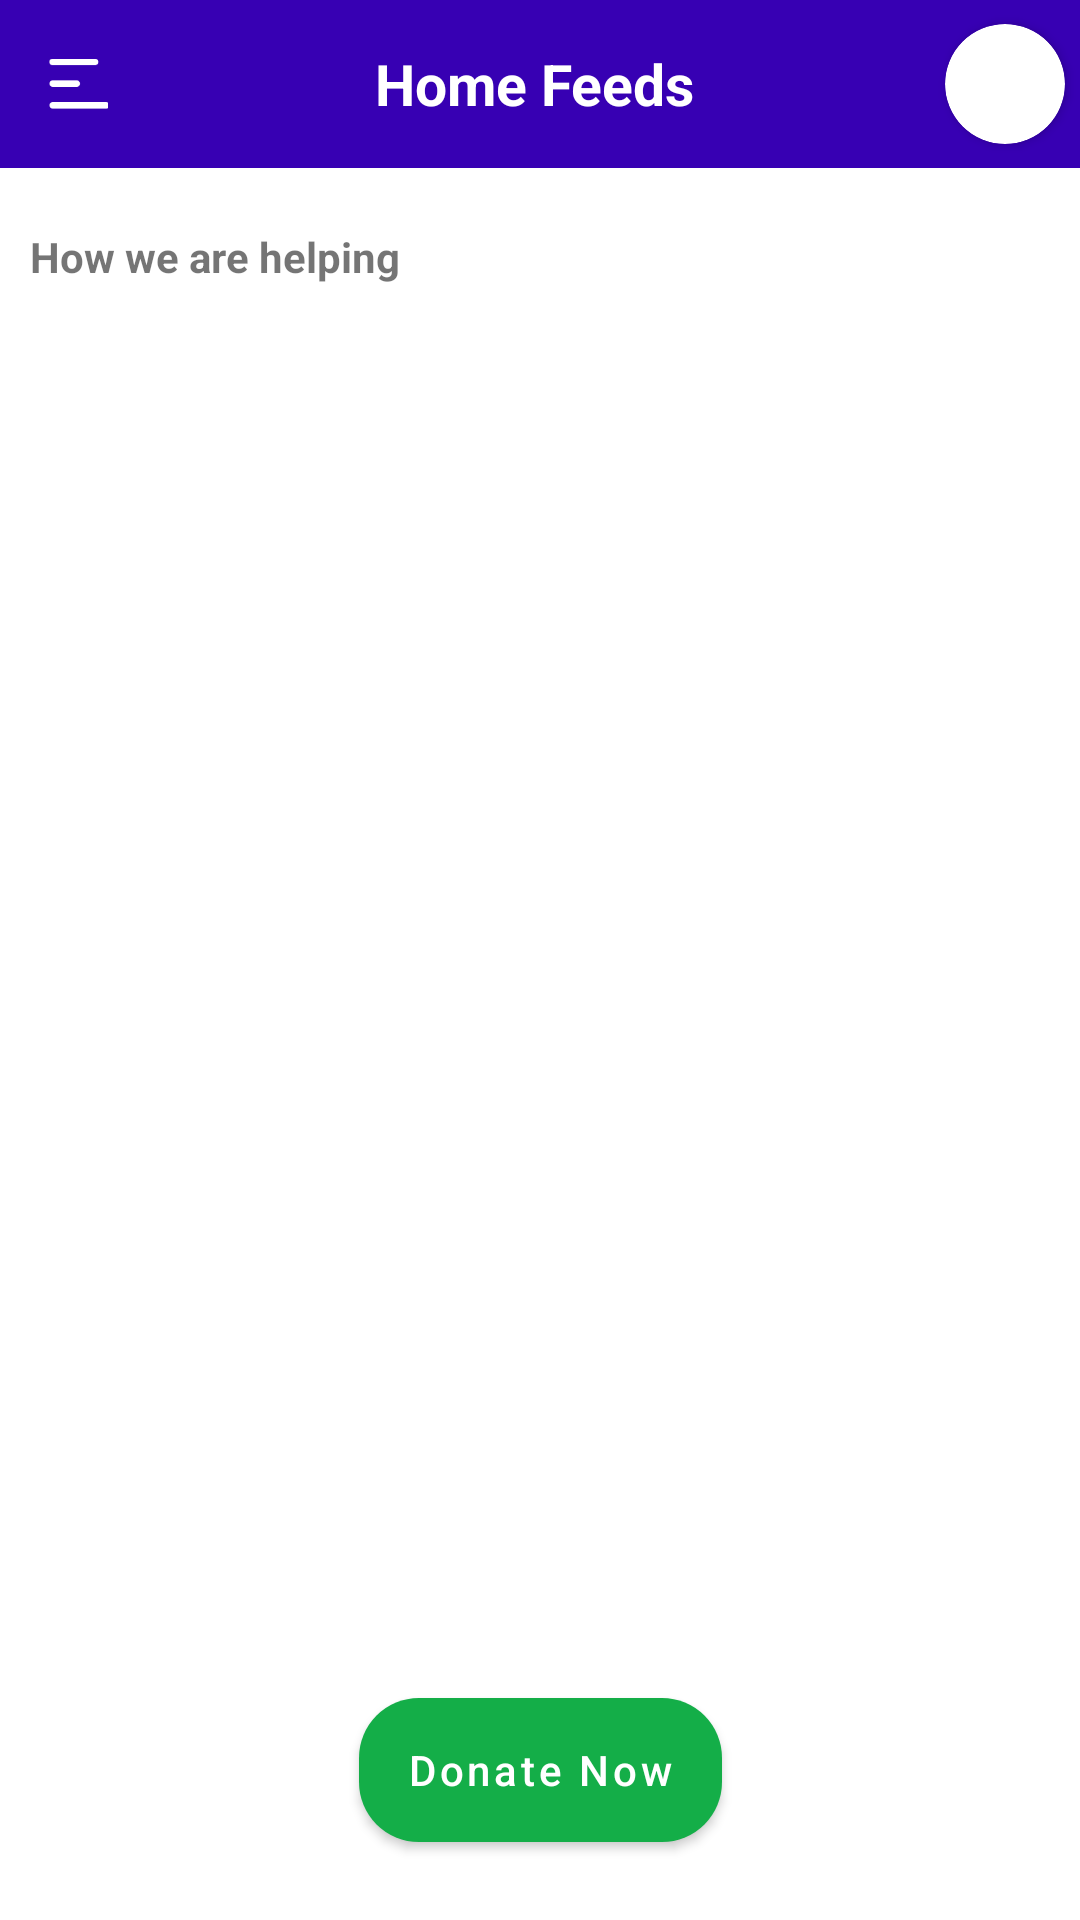

Point at icon controls on the screen. Image size 1080w x 1920h, points as (x,y).
menu: (78,84)
